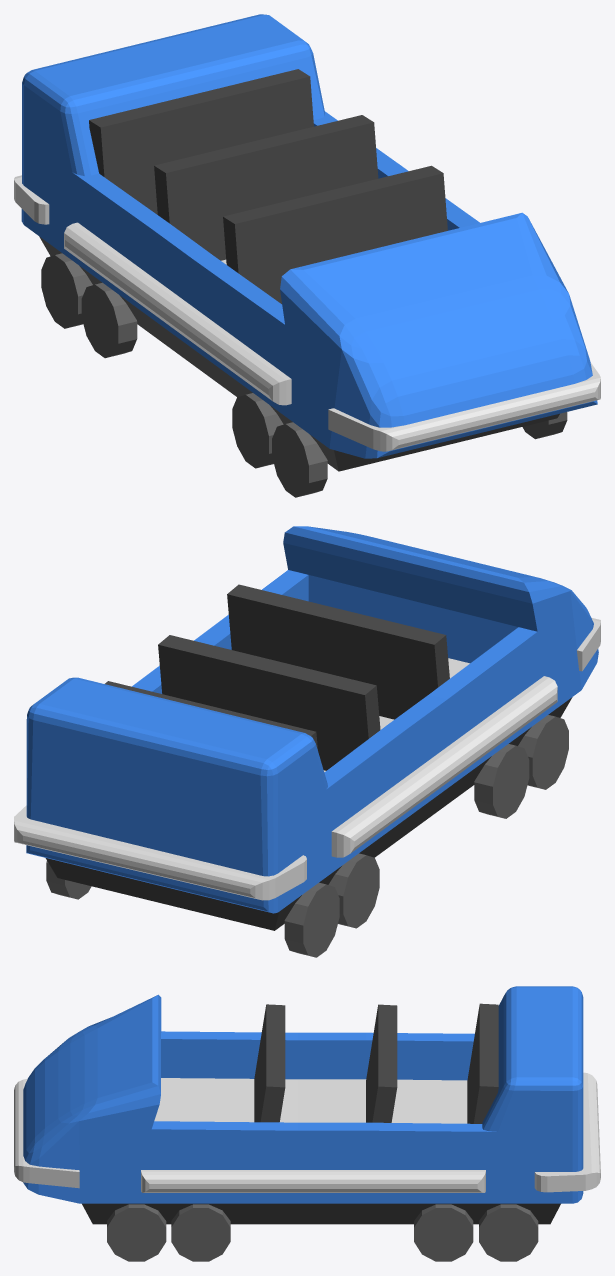
The model's file is Cart_3.fbx.
3 views of the same model, one above another, from view 1: azimuth 30°, elevation 25°; view 2: azimuth 150°, elevation 25°; view 3: azimuth 270°, elevation 25° (orthographic). The views are drawn at different scales.
Parts seen in each view (by area): view 1: Cart_3; view 2: Cart_3; view 3: Cart_3.
Part boxes in pixels (box(x1,y1,x2,y2)): Cart_3: box(14, 14, 600, 497); Cart_3: box(14, 526, 600, 957); Cart_3: box(14, 986, 600, 1261).
Bounding box in the file's own units: 228 × 169 × 502.
